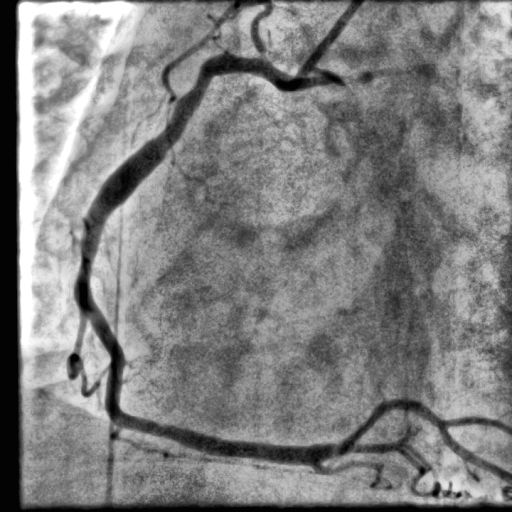pborca: (315, 400, 512, 461)
pda: (312, 462, 397, 490)
rca: (76, 53, 322, 467)
